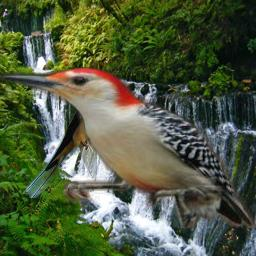Swallow: (26, 90, 97, 198)
Woodpecker: (0, 67, 256, 228)
